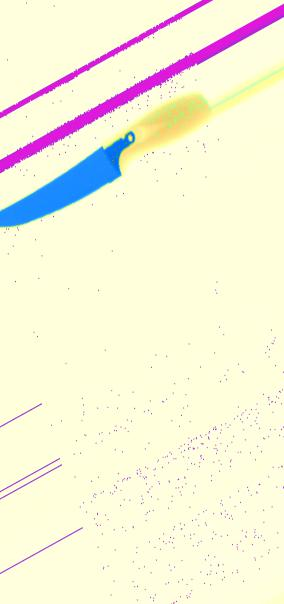Knife: (1, 91, 211, 227)
